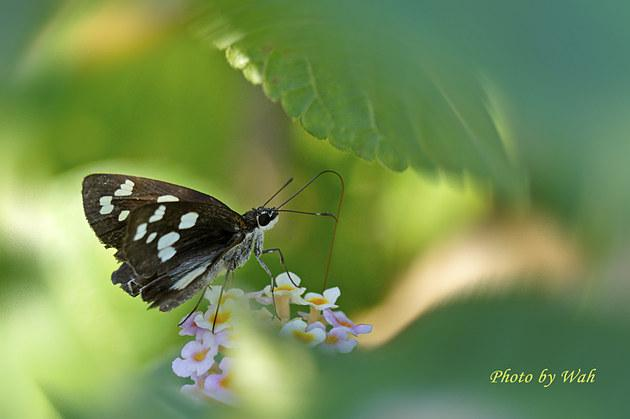Hesperiidae: (71, 156, 346, 316)
